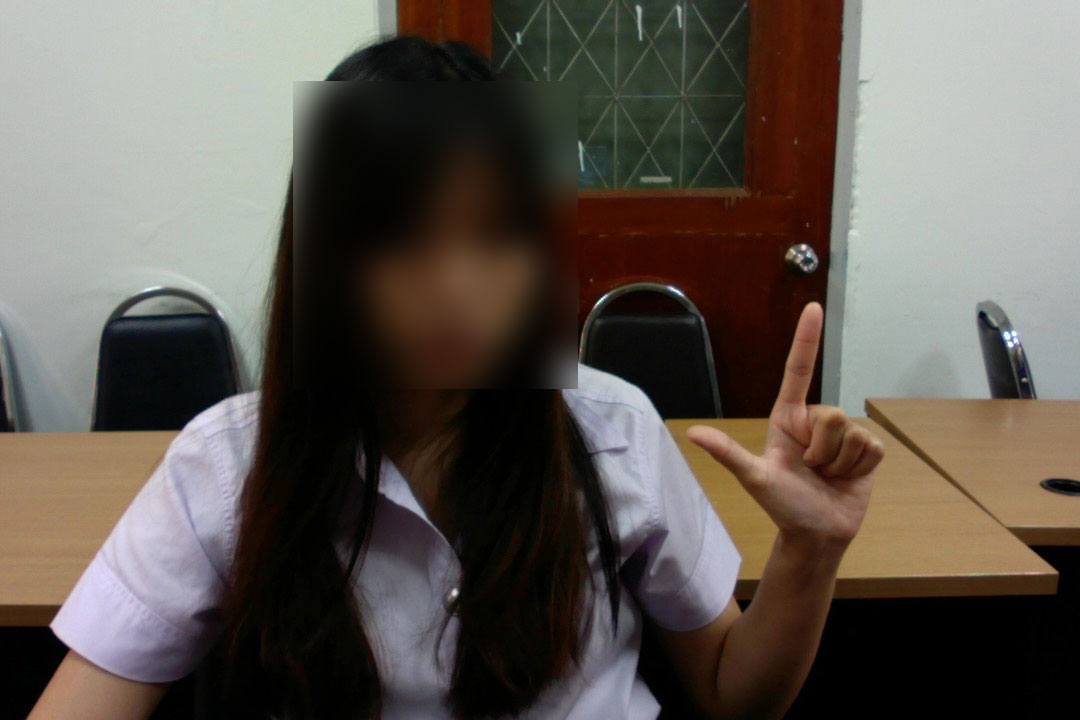lor: (674, 294, 887, 578)
